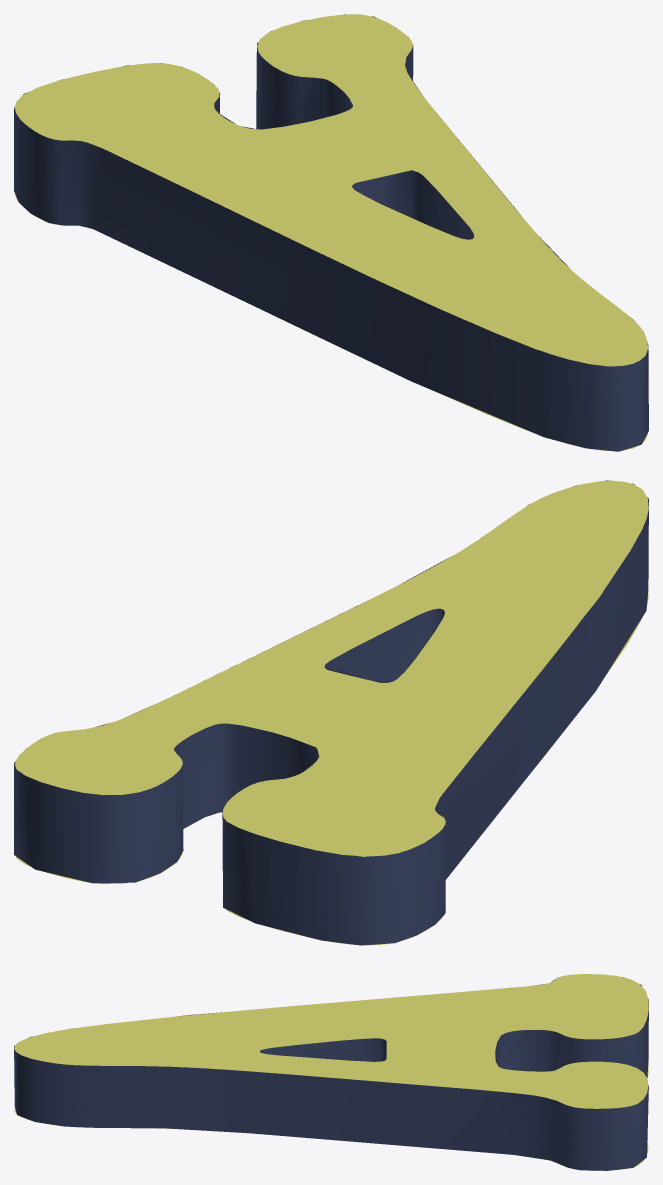
The model's file is a_boss.fbx.
3 renders of one model, top to bottom at view 1: azimuth 30°, elevation 25°; view 2: azimuth 150°, elevation 25°; view 3: azimuth 270°, elevation 25°, orthographic. The views are drawn at different scales.
Parts seen in each view (by area): view 1: A; view 2: A; view 3: A.
Boxes of the visible parts, x1,y1,x2,y2 form: A: [14, 14, 648, 451]; A: [14, 480, 648, 945]; A: [14, 974, 648, 1170].
Size of the model in its own units: 0.7459 by 0.1599 by 1.48.
